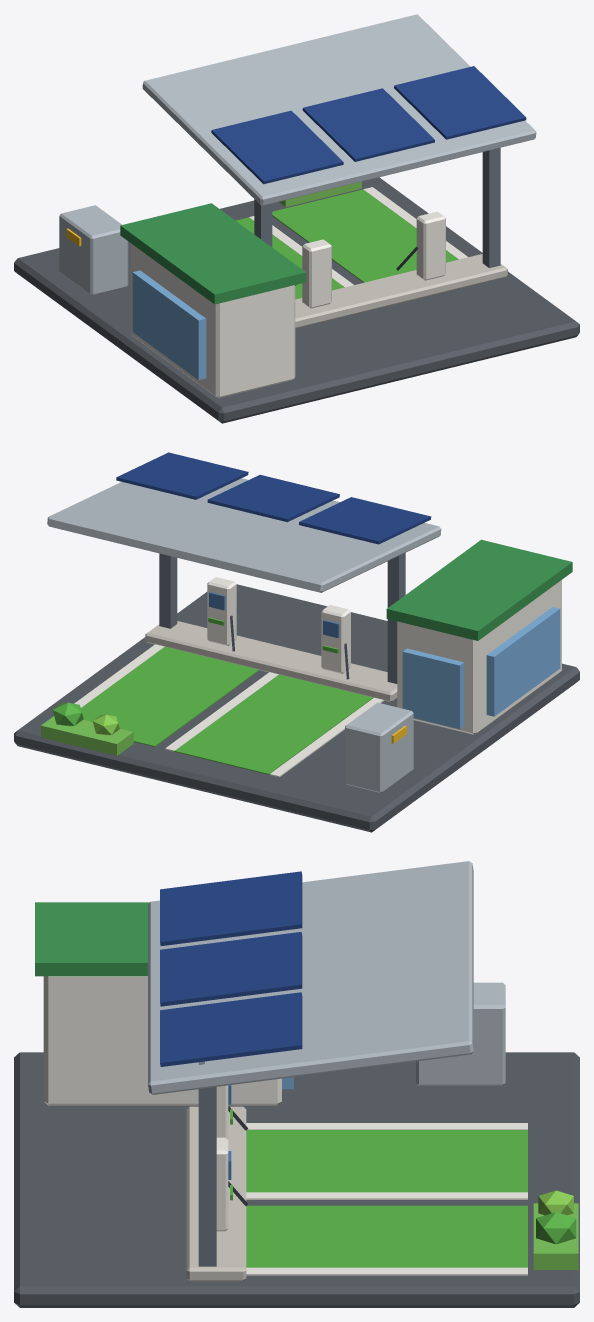
File: posto_recarga.glb
3 views of the same model, one above another, from view 1: azimuth 30°, elevation 25°; view 2: azimuth 150°, elevation 25°; view 3: azimuth 270°, elevation 25° (orthographic). The views are drawn at different scales.
Visible parts, largest first — view 1: corpo; view 2: corpo; view 3: corpo.
Boxes of the visible parts, <box> form: corpo: <box>14,14,579,423</box>; corpo: <box>14,452,579,832</box>; corpo: <box>14,861,579,1307</box>.
Size of the model in its own units: 1.93 by 1 by 1.9.
